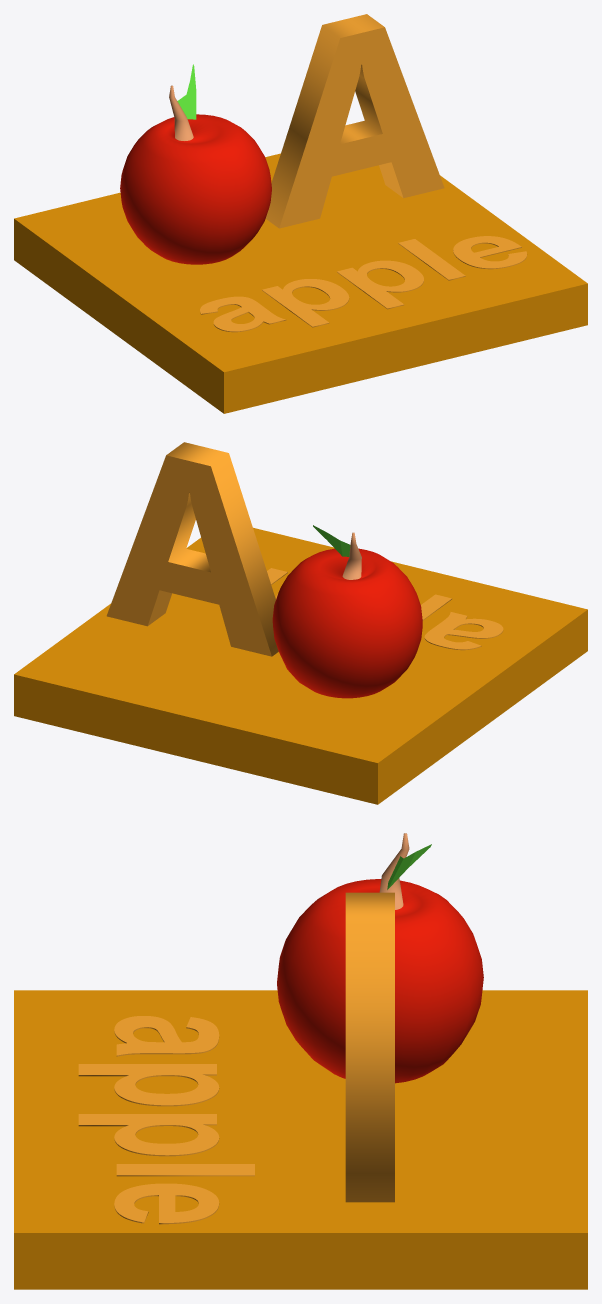
The model's file is aletter.glb.
The picture shows the model from 3 angles, top to bottom: view 1: azimuth 30°, elevation 25°; view 2: azimuth 150°, elevation 25°; view 3: azimuth 270°, elevation 25°; orthographic projection. The views are drawn at different scales.
Visible parts, largest first — view 1: Cube, Text.003, Sphere, Text.002, Plane; view 2: Cube, Text.003, Sphere, Text.002; view 3: Cube, Sphere, Text.003, Text.002.
Part boxes in pixels (<box>): Cube: <box>14,153,587,413</box>; Text.003: <box>265,14,444,228</box>; Sphere: <box>120,85,271,264</box>; Text.002: <box>200,236,527,332</box>; Plane: <box>177,64,196,119</box>; Cube: <box>14,527,587,804</box>; Text.003: <box>106,442,278,656</box>; Sphere: <box>272,532,422,698</box>; Text.002: <box>267,568,503,650</box>; Cube: <box>14,990,587,1289</box>; Sphere: <box>277,833,483,1083</box>; Text.003: <box>345,892,394,1202</box>; Text.002: <box>78,1016,254,1224</box>.
Size of the model in its own units: 0.327 by 0.1966 by 0.327.
